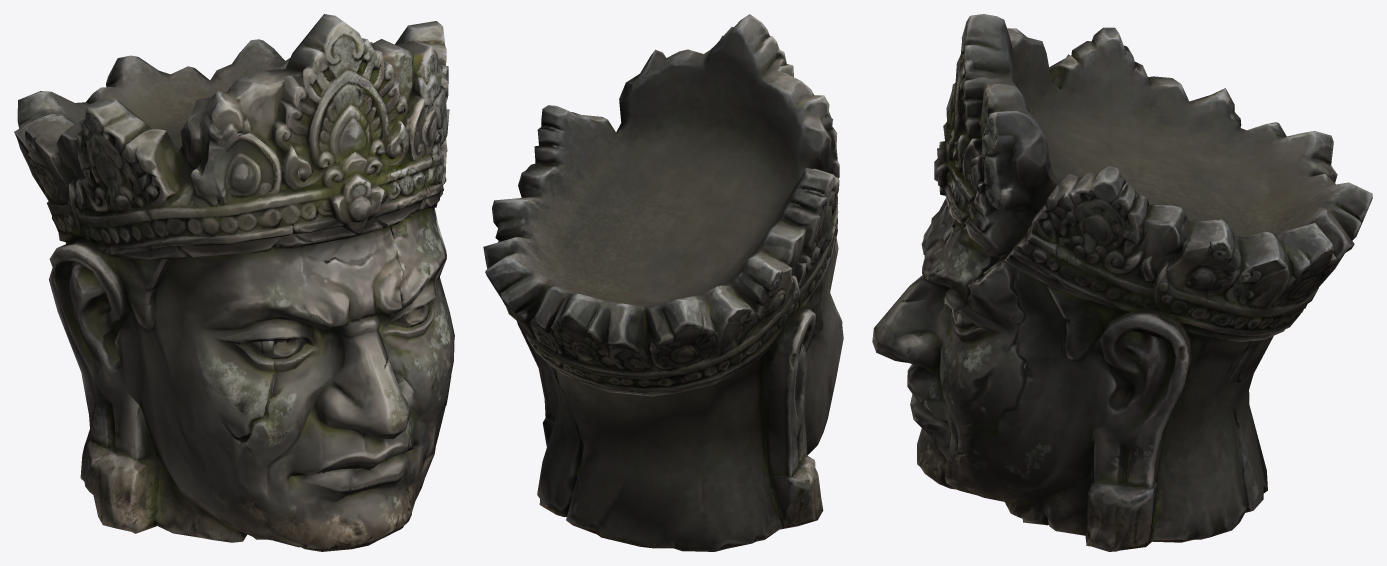
File: GuardianHead.gltf
The picture shows the model from 3 angles, left to right: view 1: azimuth 30°, elevation 25°; view 2: azimuth 150°, elevation 25°; view 3: azimuth 270°, elevation 25°; orthographic projection. The views are drawn at different scales.
Parts seen in each view (by area): view 1: lo; view 2: lo; view 3: lo.
Part boxes in pixels (bbox=[...]): lo: bbox=[14, 14, 454, 551]; lo: bbox=[483, 14, 843, 551]; lo: bbox=[872, 14, 1372, 551].
Size of the model in its own units: 2.9 by 4.14 by 3.97.
1 material, 1 textured.
